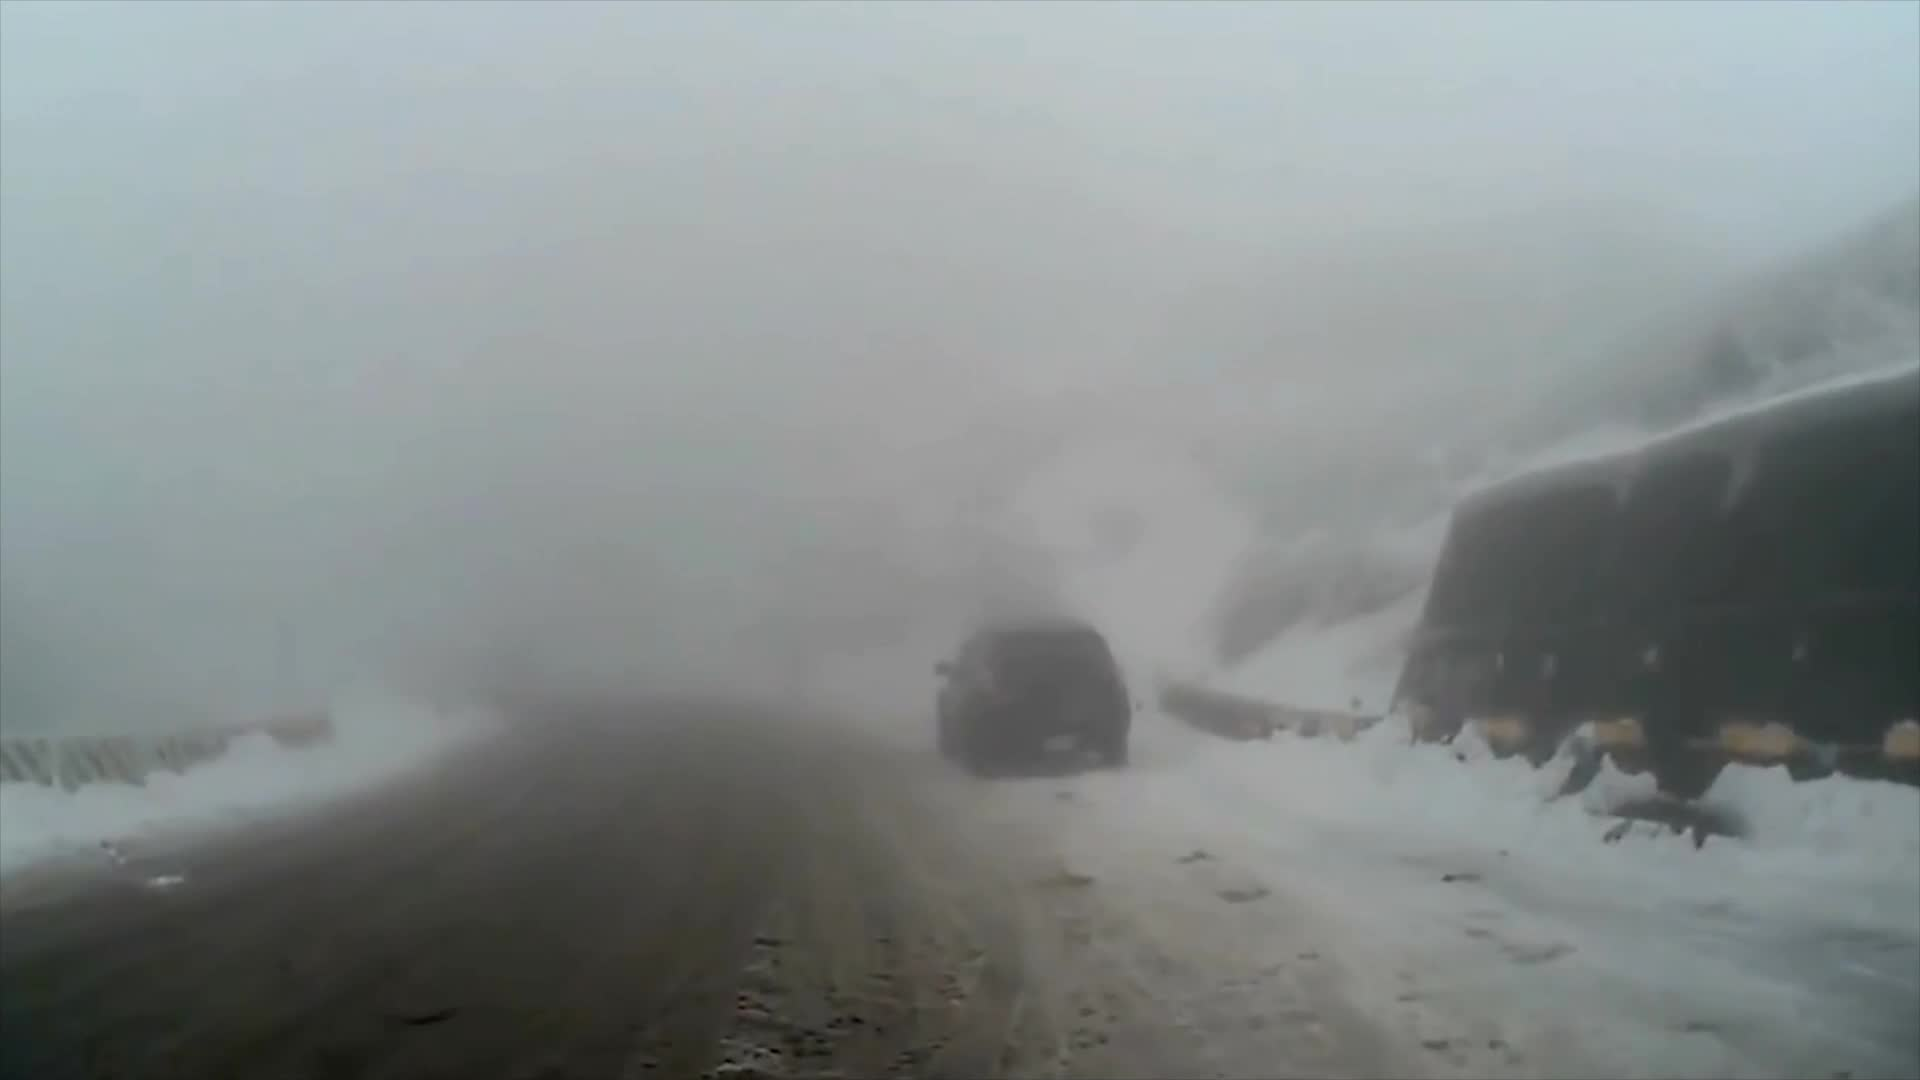vehicle: (931, 612, 1129, 773)
